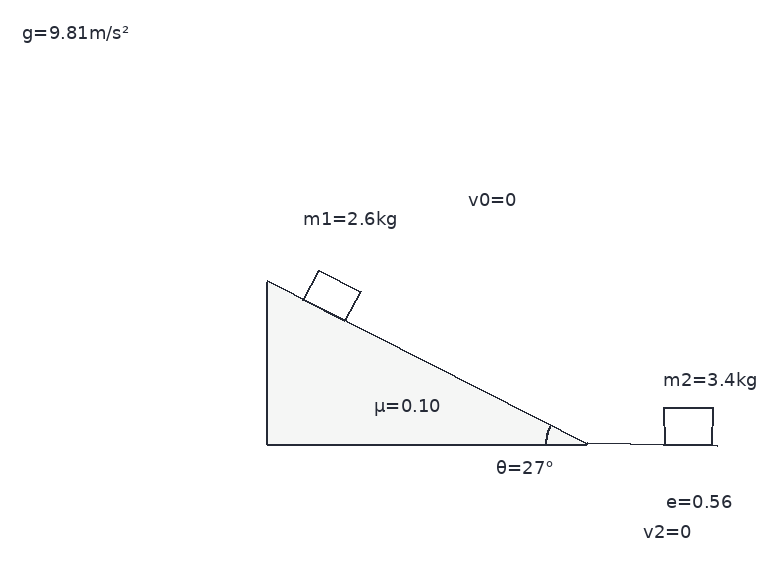block: (301, 267, 362, 323), (662, 406, 714, 446)
ramp: (265, 279, 588, 446)
